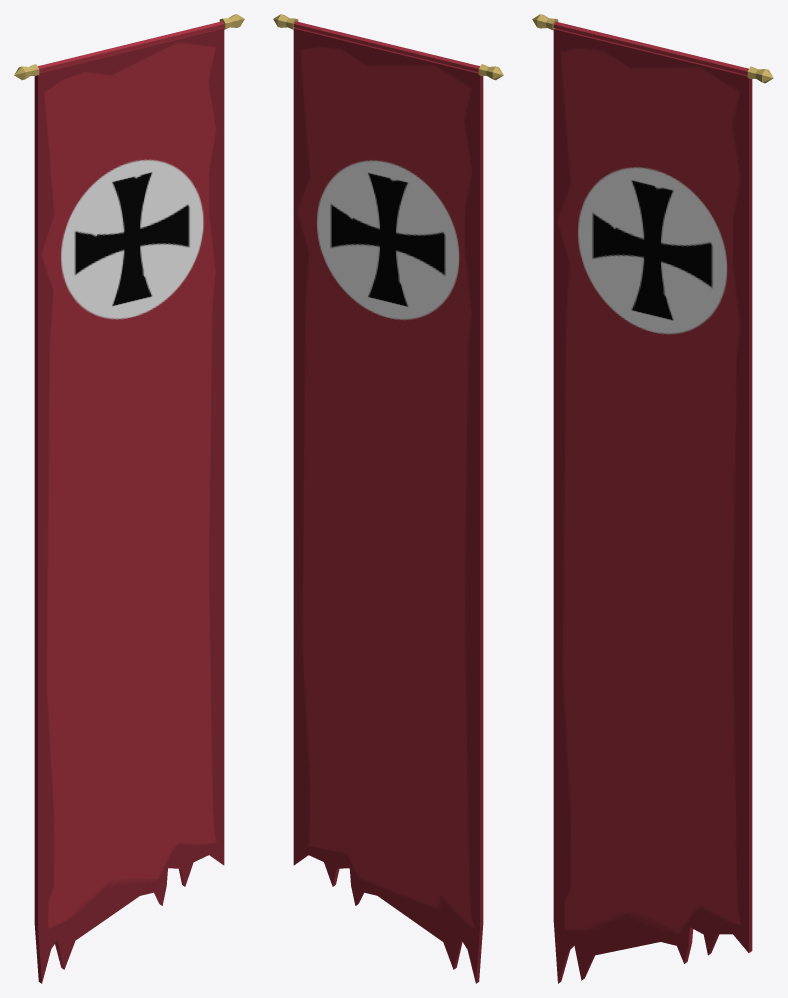
The model's file is SM_Env_Flag_Long_Ripped_Germany_B.fbx.
The picture shows the model from 3 angles, left to right: view 1: azimuth 30°, elevation 25°; view 2: azimuth 150°, elevation 25°; view 3: azimuth 330°, elevation 25°; orthographic projection. The views are drawn at different scales.
Parts seen in each view (by area): view 1: SM_Env_Flag_Long_Ripped_Germany_B; view 2: SM_Env_Flag_Long_Ripped_Germany_B; view 3: SM_Env_Flag_Long_Ripped_Germany_B.
Part boxes in pixels (<box>): SM_Env_Flag_Long_Ripped_Germany_B: <box>14,14,244,983</box>; SM_Env_Flag_Long_Ripped_Germany_B: <box>273,14,503,983</box>; SM_Env_Flag_Long_Ripped_Germany_B: <box>532,14,773,983</box>.
Size of the model in its own units: 0.0125 by 0.0476 by 0.000625.
